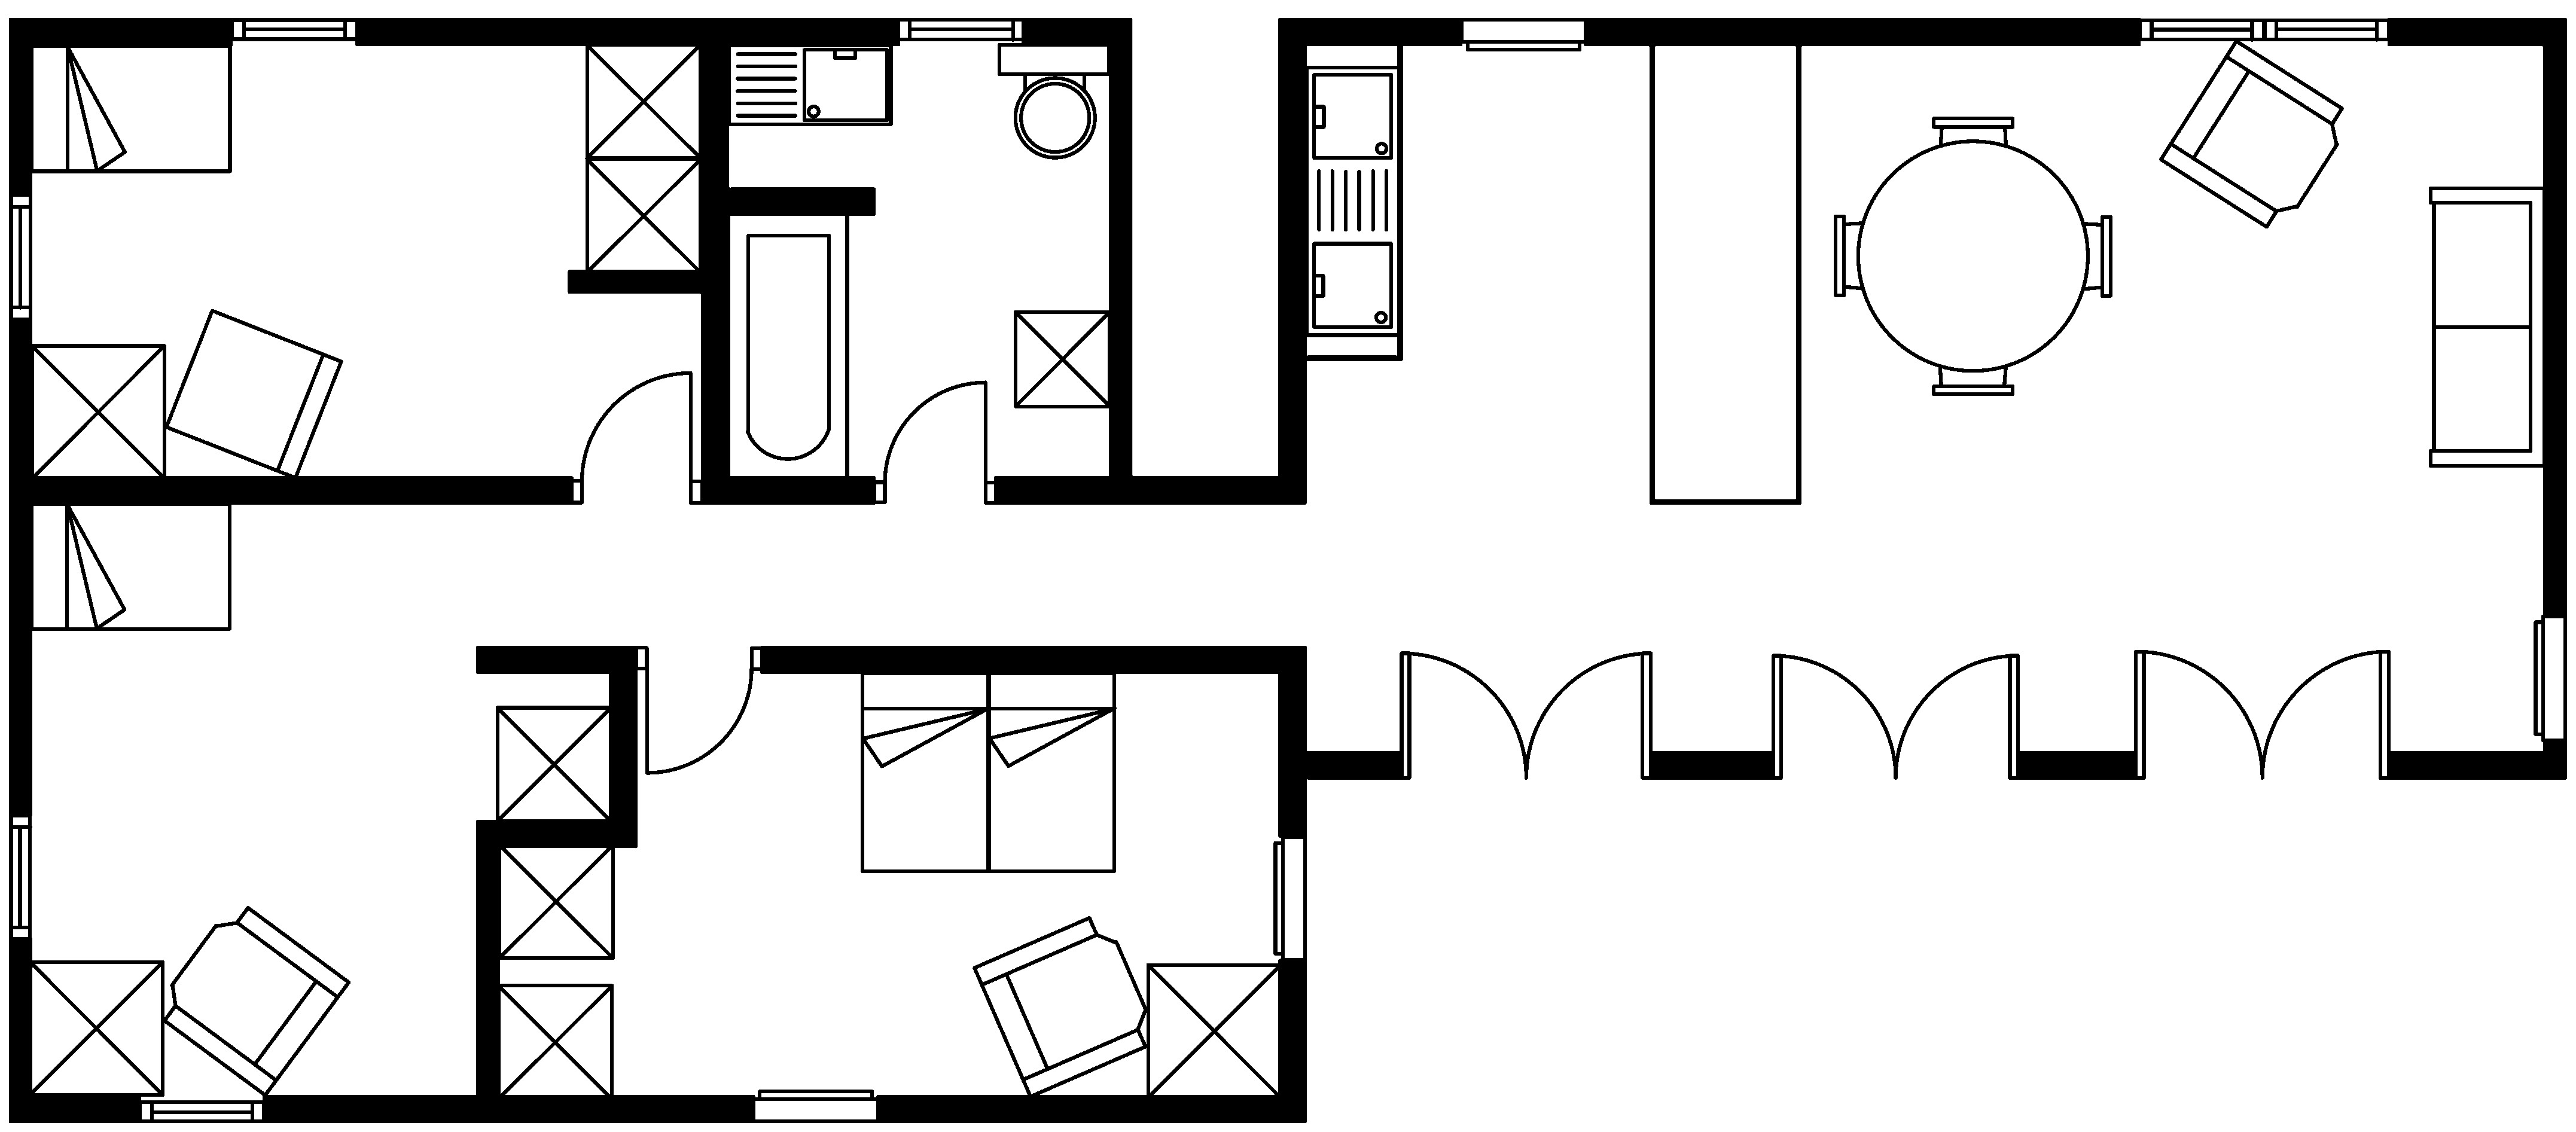armchair: (161, 905, 350, 1097), (2159, 38, 2344, 228), (973, 915, 1148, 1099)
bed: (30, 43, 232, 174), (859, 670, 991, 872), (986, 670, 1117, 872), (28, 501, 232, 631)
coffee_table: (26, 959, 164, 1097), (1145, 963, 1283, 1099), (30, 343, 166, 480), (583, 41, 702, 161), (494, 982, 614, 1101), (494, 705, 613, 823), (496, 841, 614, 959), (585, 156, 702, 274), (1012, 309, 1112, 409)
large_sink: (997, 41, 1111, 158)
large_sofa: (2428, 186, 2546, 468)
round_table: (1832, 115, 2113, 396)
sink: (726, 43, 894, 127)
small_sofa: (163, 307, 343, 480)
tub: (726, 210, 849, 483)
twin_sink: (1304, 64, 1401, 337)
